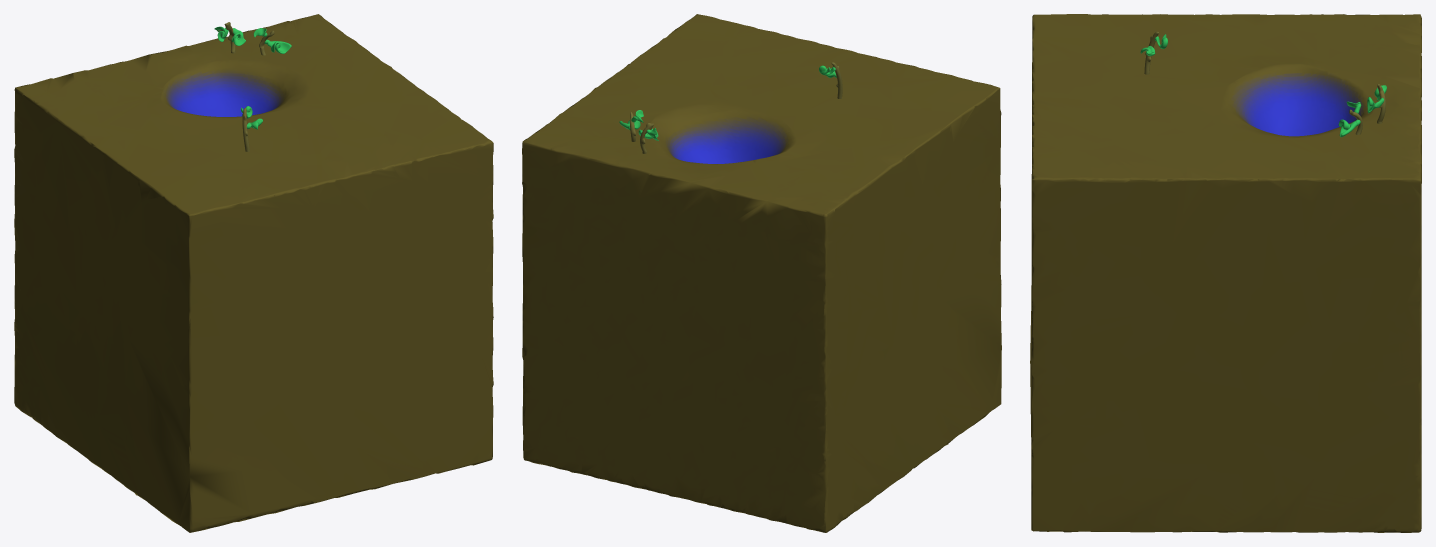
The model's file is dlata_stage.gltf.
The picture shows the model from 3 angles, left to right: view 1: azimuth 30°, elevation 25°; view 2: azimuth 150°, elevation 25°; view 3: azimuth 270°, elevation 25°; orthographic projection. The views are drawn at different scales.
Parts seen in each view (by area): view 1: Layer_1; view 2: Layer_1; view 3: Layer_1, Layer_1.002.
Boxes of the visible parts, x1=… form: Layer_1: x1=14, y1=14, x2=493, y2=532; Layer_1: x1=522, y1=14, x2=1001, y2=532; Layer_1: x1=1030, y1=14, x2=1421, y2=532; Layer_1.002: x1=1338, y1=101, x2=1362, y2=137.
Size of the model in its own units: 44.06 by 49.7 by 44.19.
